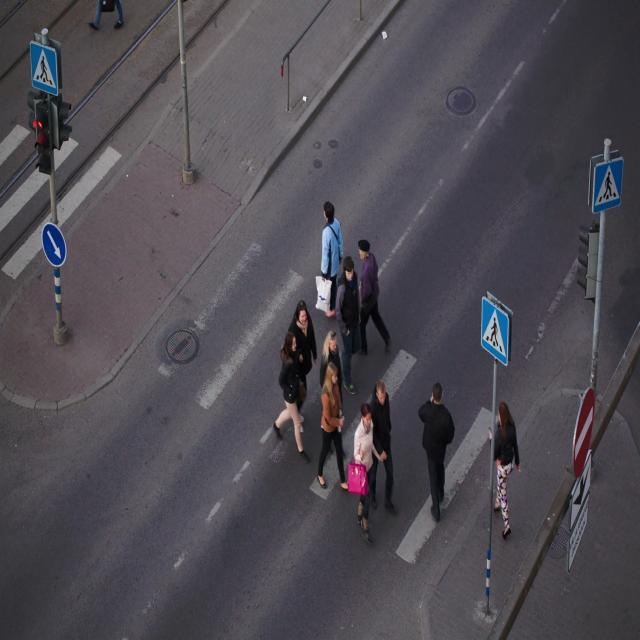pedestrian: (321, 201, 390, 392), (349, 379, 395, 541), (419, 383, 454, 522), (493, 402, 519, 539), (322, 372, 341, 433)
